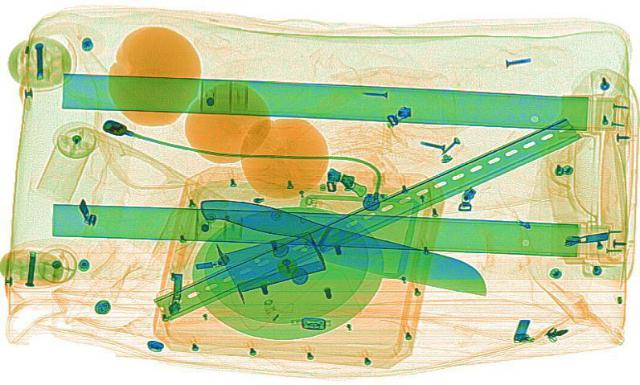Knife: (182, 187, 506, 302)
